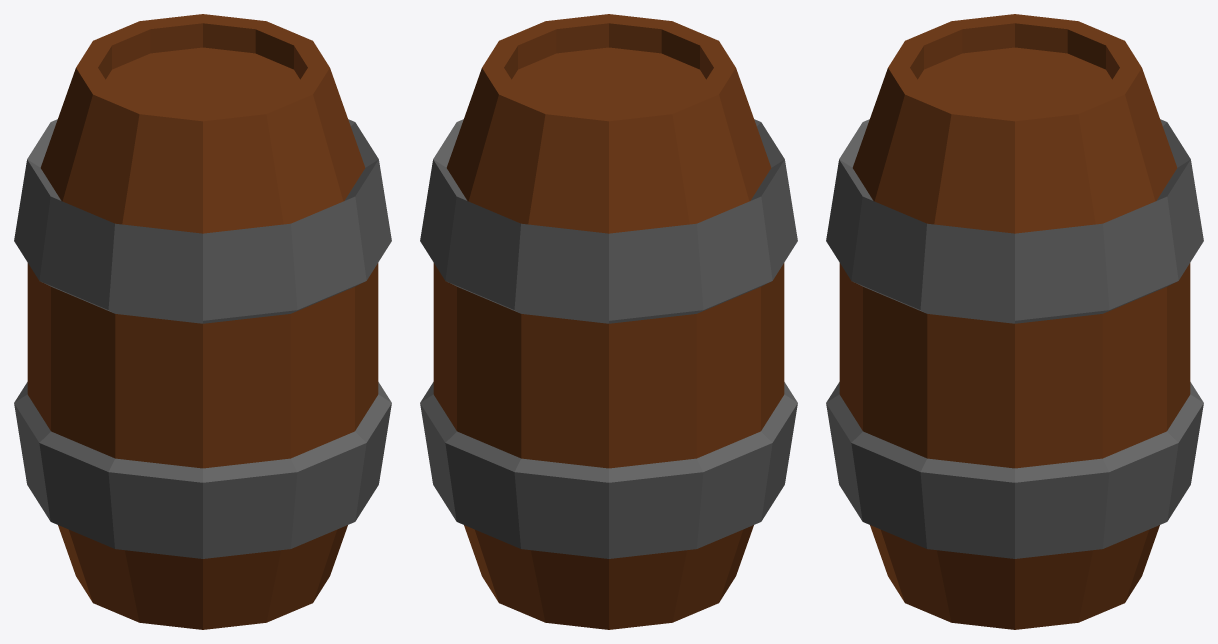
The model's file is barrilverdaderoooooo.fbx.
3 renders of one model, left to right at view 1: azimuth 30°, elevation 25°; view 2: azimuth 150°, elevation 25°; view 3: azimuth 270°, elevation 25°, orthographic.
Visible parts, largest first — view 1: Cylinder.002; view 2: Cylinder.002; view 3: Cylinder.002.
Boxes of the visible parts, x1,y1,x2,y2 form: Cylinder.002: (14,14,391,629); Cylinder.002: (420,14,797,629); Cylinder.002: (826,14,1203,629).
Size of the model in its own units: 503 by 747 by 503.
